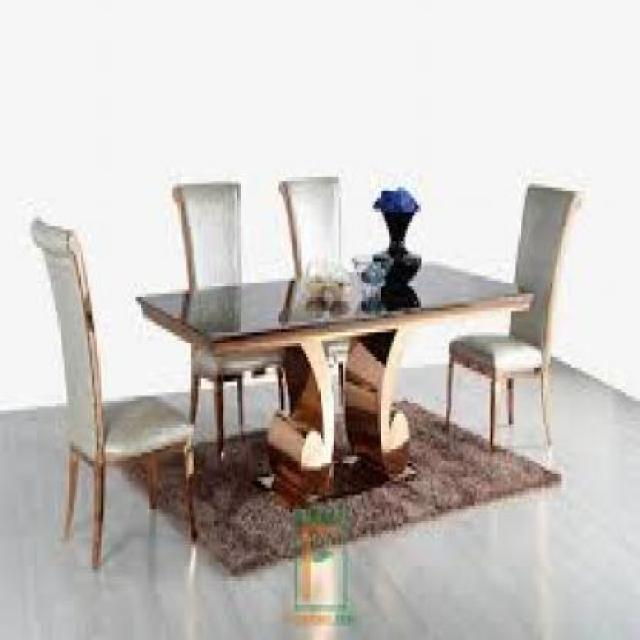tables: (134, 260, 534, 534)
